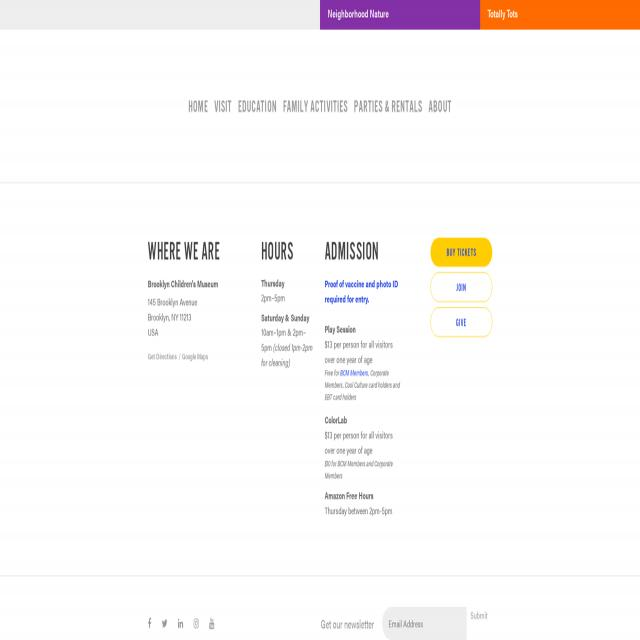button: (479, 0, 640, 31), (319, 0, 479, 30), (430, 272, 492, 302), (430, 308, 492, 337), (430, 238, 492, 266), (162, 615, 167, 631), (178, 615, 183, 631), (194, 615, 198, 631), (210, 615, 214, 631), (148, 615, 151, 631)
field: (381, 606, 466, 640)
